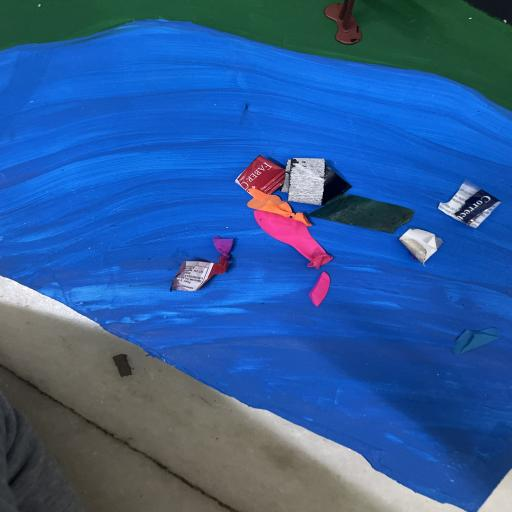trash: (165, 152, 512, 310)
